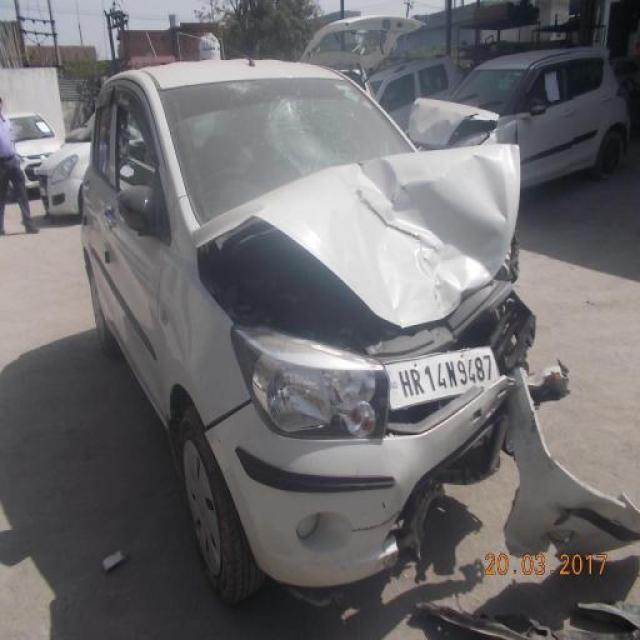crack: (267, 84, 372, 174), (222, 78, 267, 102)
crush: (188, 142, 568, 553)
scratch: (355, 508, 396, 538)
